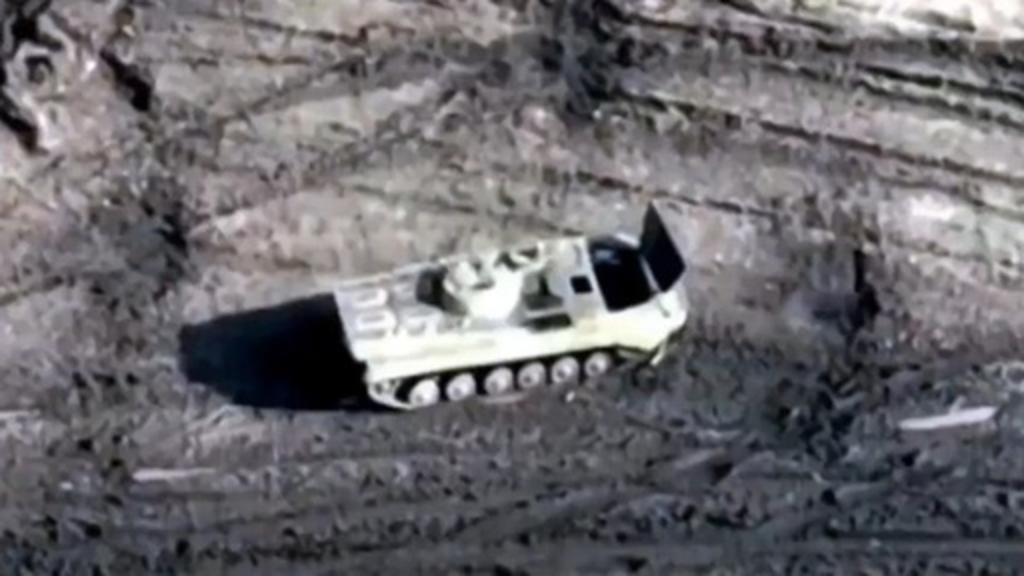APC-IFV: (306, 196, 702, 410)
